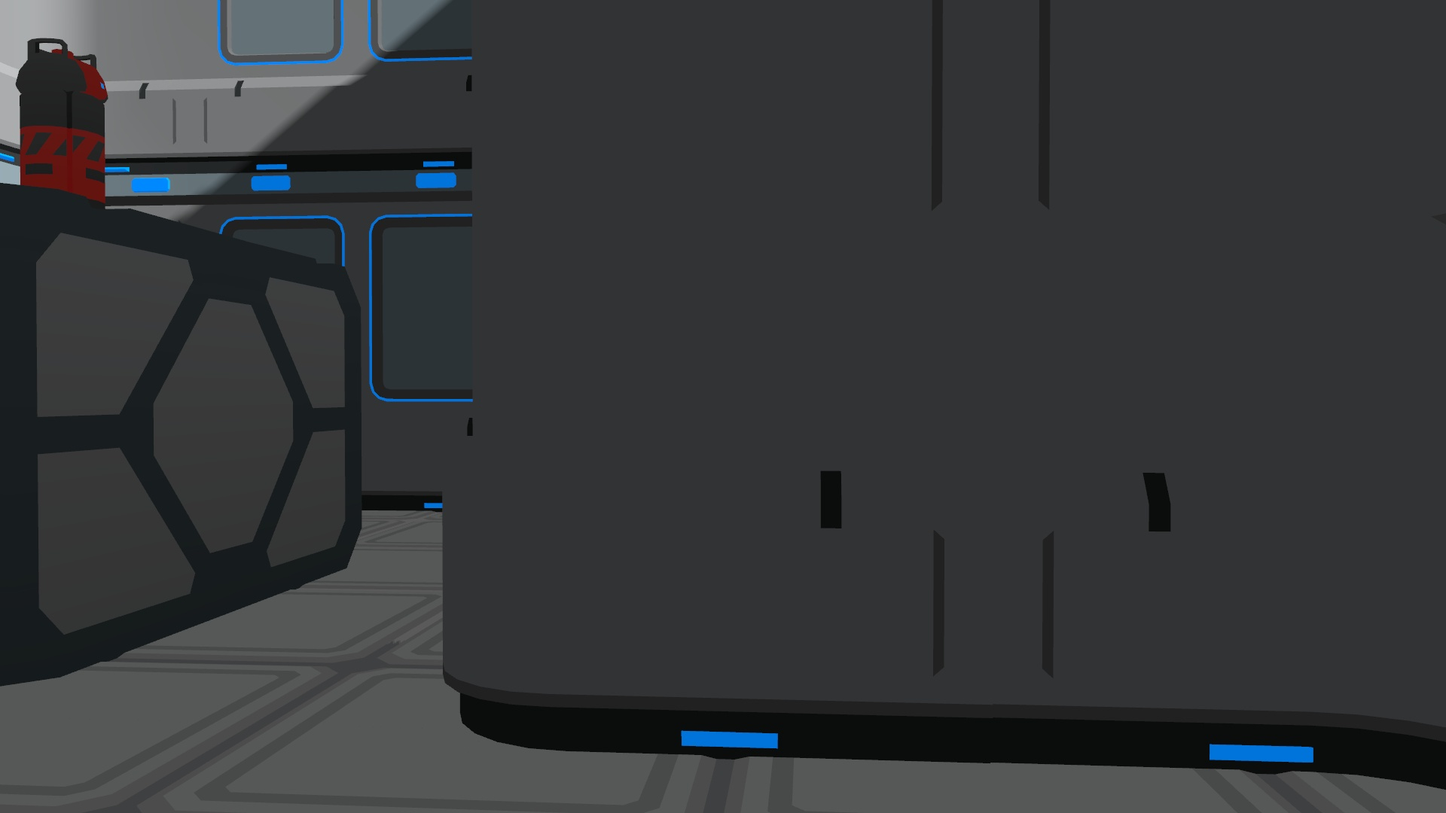red_barrel: (9, 31, 117, 217)
